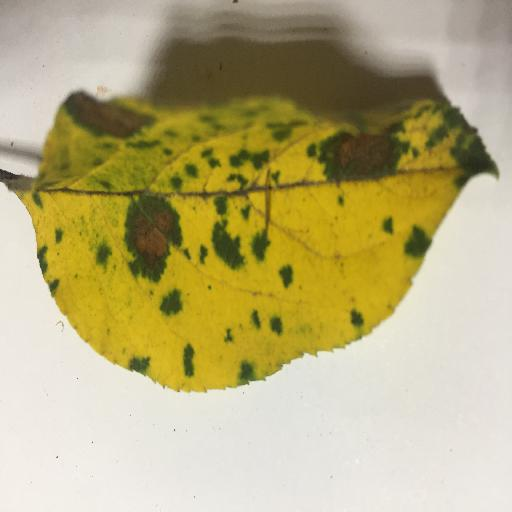Brown_Spot: (69, 91, 144, 134), (325, 136, 400, 173), (129, 203, 170, 257)
